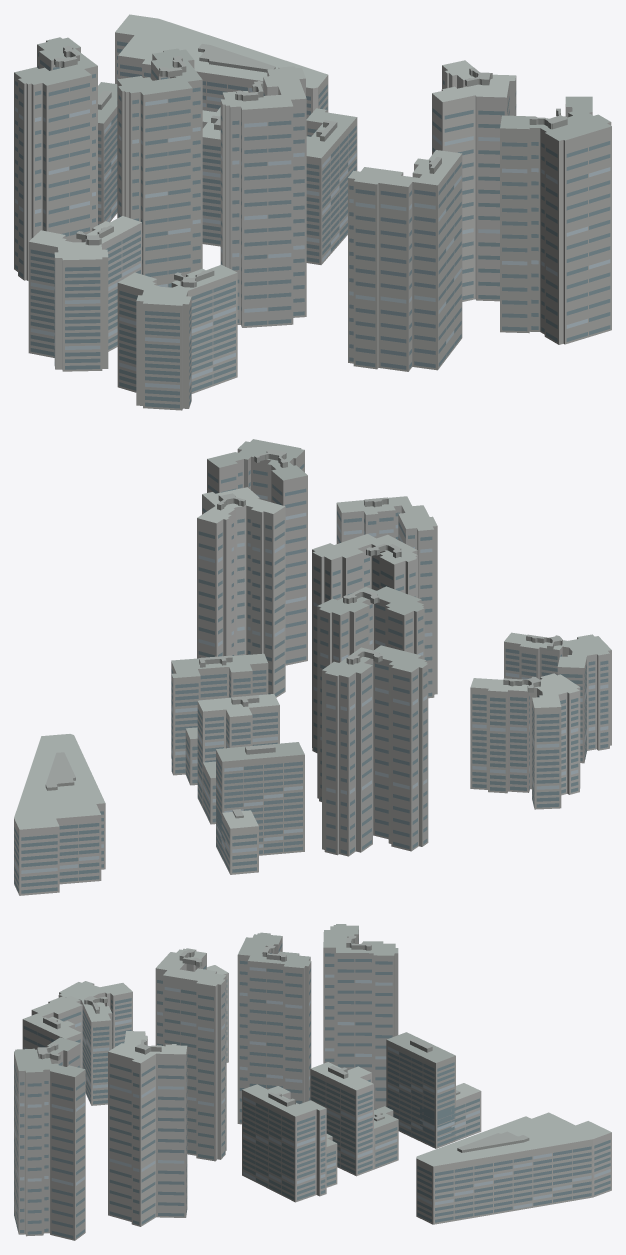
File: apt-a10024787.glb
3 renders of one model, top to bottom at view 1: azimuth 30°, elevation 25°; view 2: azimuth 150°, elevation 25°; view 3: azimuth 270°, elevation 25°, orthographic. The views are drawn at different scales.
Visible parts, largest first — view 1: apt-a10024787; view 2: apt-a10024787; view 3: apt-a10024787.
Part boxes in pixels (x1,y1,x2,y2): apt-a10024787: (14, 14, 611, 410); apt-a10024787: (14, 439, 611, 895); apt-a10024787: (14, 924, 611, 1240).
Bounding box in the file's own units: 209 × 94 × 283.
